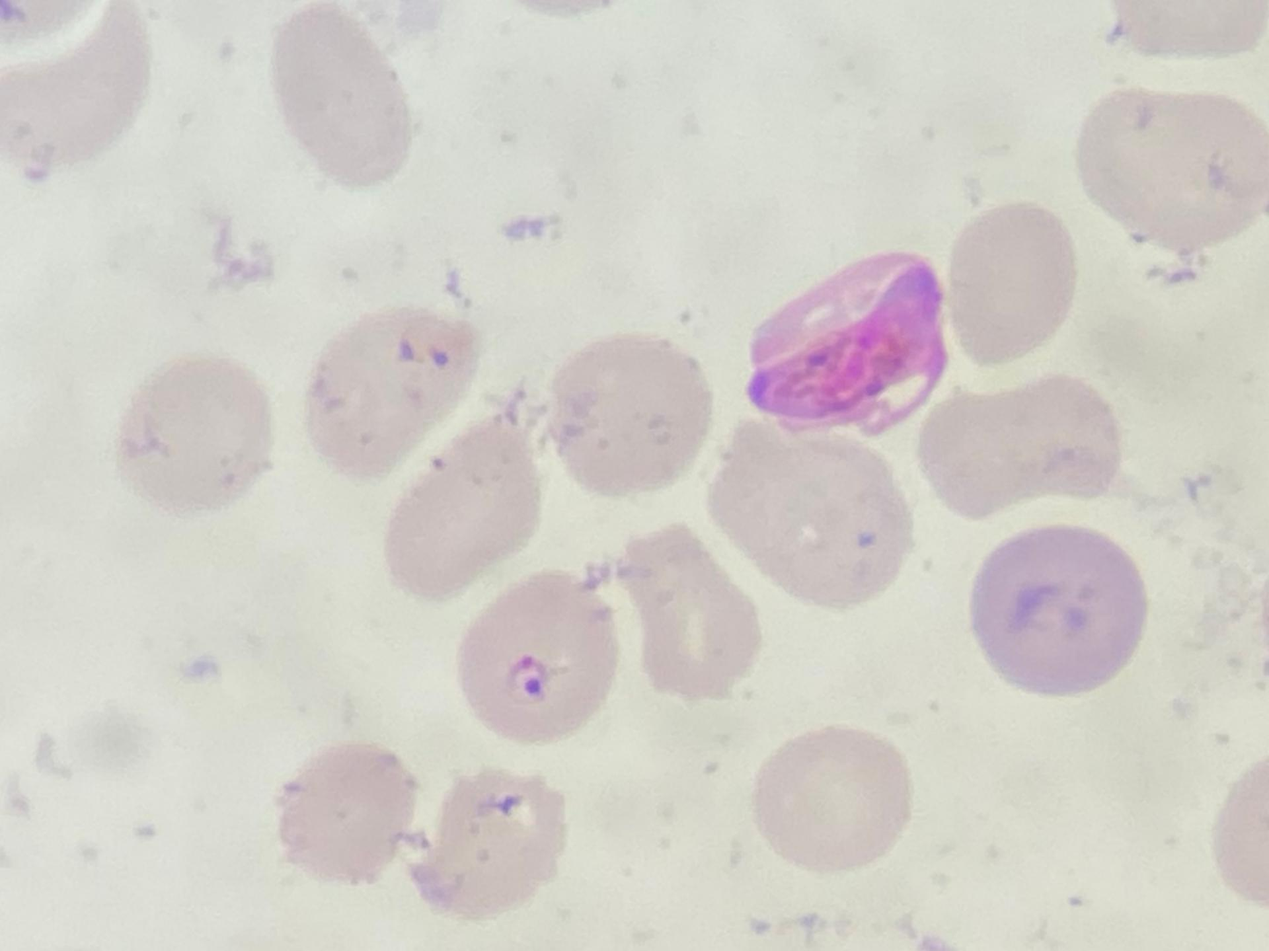Infected: (739, 250, 950, 439), (456, 574, 623, 746)
Uninfected: (704, 428, 918, 609), (1072, 85, 1269, 248), (380, 410, 543, 598), (968, 527, 1148, 696), (915, 375, 1118, 523), (307, 306, 483, 474), (552, 334, 709, 503), (618, 524, 766, 699), (268, 5, 409, 188), (112, 357, 270, 505), (750, 729, 907, 874), (942, 204, 1077, 369), (426, 767, 572, 913), (279, 744, 421, 886)
